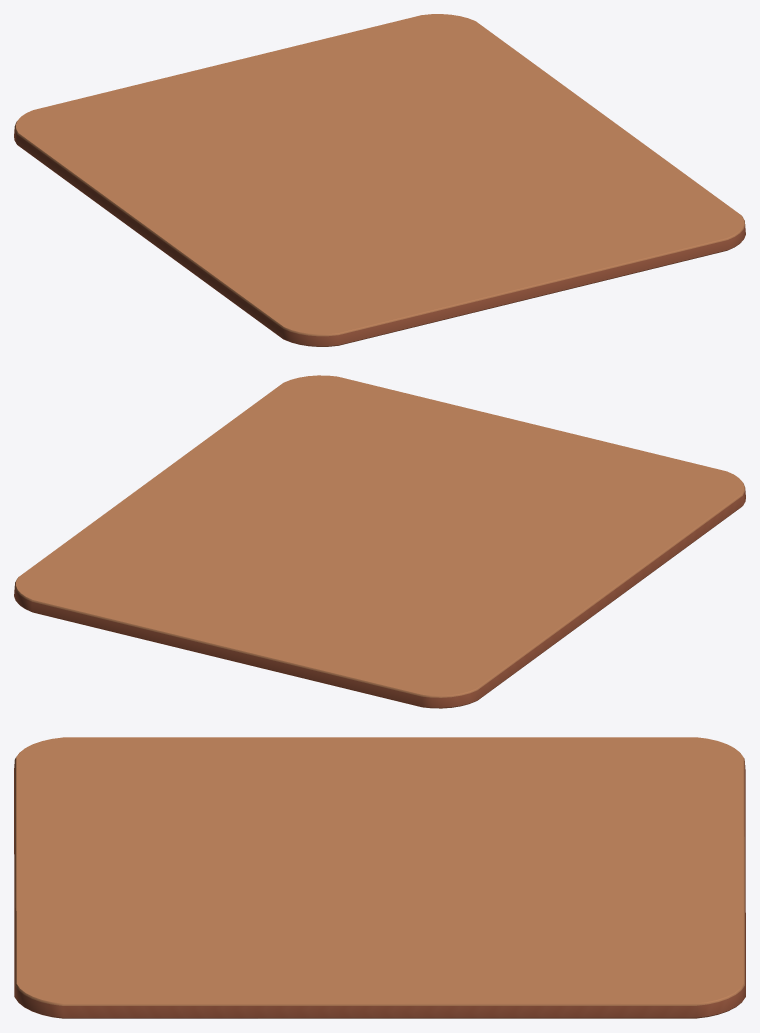
File: Base plate.fbx
3 renders of one model, top to bottom at view 1: azimuth 30°, elevation 25°; view 2: azimuth 150°, elevation 25°; view 3: azimuth 270°, elevation 25°, orthographic. The views are drawn at different scales.
Visible parts, largest first — view 1: Cube_009; view 2: Cube_009; view 3: Cube_009.
Part boxes in pixels (bbox=[...]): Cube_009: bbox=[14, 14, 745, 346]; Cube_009: bbox=[14, 375, 745, 708]; Cube_009: bbox=[14, 737, 745, 1018].
Size of the model in its own units: 5569 by 146 by 6420.
Materials: 1 (1 with a texture image).
